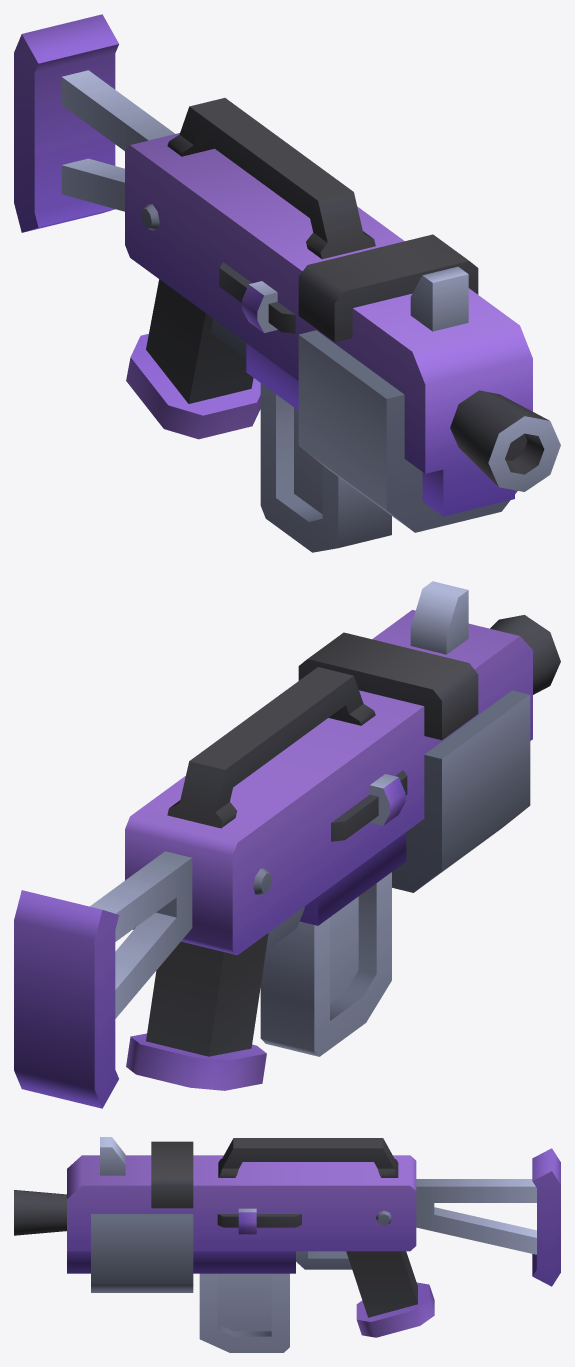
Rendered from gun_rifle.glb.
3 views of the same model, one above another, from view 1: azimuth 30°, elevation 25°; view 2: azimuth 150°, elevation 25°; view 3: azimuth 270°, elevation 25° (orthographic). The views are drawn at different scales.
Parts seen in each view (by area): view 1: blaster-d; view 2: blaster-d; view 3: blaster-d.
Part boxes in pixels (bbox=[...]): blaster-d: bbox=[14, 14, 560, 552]; blaster-d: bbox=[14, 581, 560, 1108]; blaster-d: bbox=[14, 1137, 560, 1352].
Bounding box in the file's own units: 0.1309 × 0.2949 × 0.72.
1 material, 1 textured.
